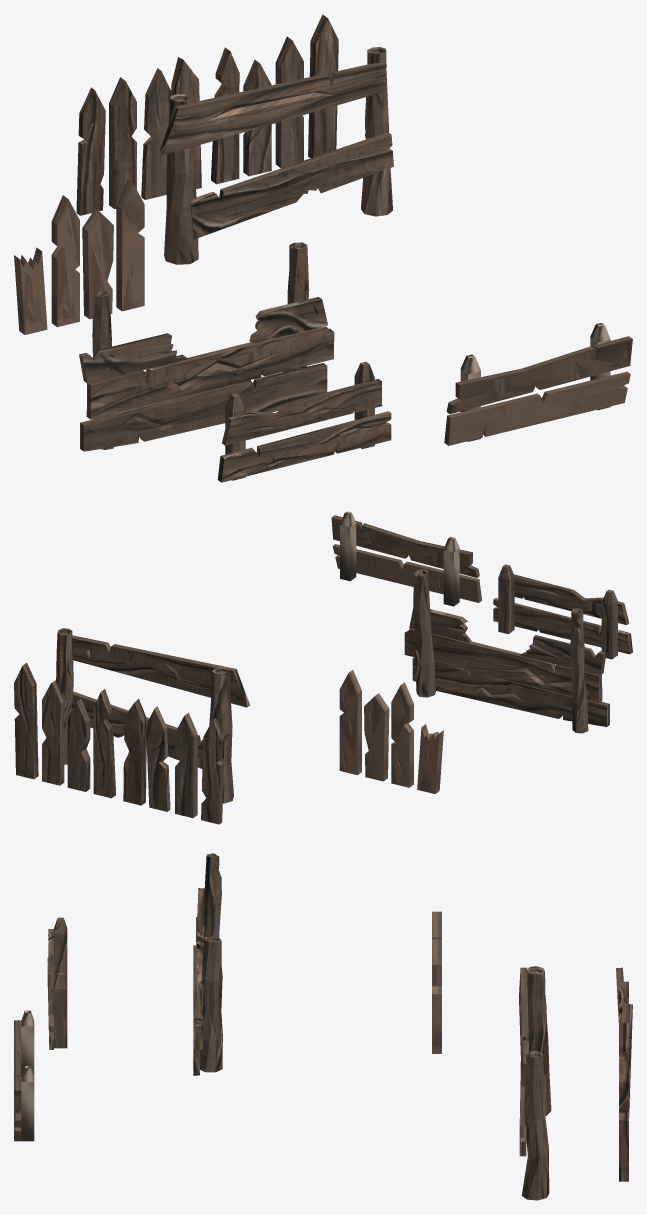
Rendered from FencesOnly.fbx.
The picture shows the model from 3 angles, top to bottom: view 1: azimuth 30°, elevation 25°; view 2: azimuth 150°, elevation 25°; view 3: azimuth 270°, elevation 25°; orthographic projection. The views are drawn at different scales.
Parts seen in each view (by area): view 1: Cube.047, Cylinder.000, Cube.129, Cube.316, Cube.119, Cube.012, Cube.014; view 2: Cube.047, Cylinder.000, Cube.014, Cube.012, Cube.316, Cube.129, Cube.119; view 3: Cylinder.000, Cube.047, Cube.129, Cube.119, Cube.014, Cube.316, Cube.012.
Part boxes in pixels (x1,y1,x2,y2): Cube.047: (79,242,334,451); Cylinder.000: (159,47,393,264); Cube.129: (444,323,632,445); Cube.316: (14,179,144,334); Cube.119: (217,361,391,482); Cube.012: (76,57,201,215); Cube.014: (211,14,338,184); Cube.047: (404,569,609,733); Cylinder.000: (56,628,249,803); Cube.014: (14,663,115,798); Cube.012: (123,698,224,824); Cube.316: (339,670,443,793); Cube.129: (331,511,481,606); Cube.119: (493,564,632,659); Cylinder.000: (519,966,551,1200); Cube.047: (193,853,222,1075); Cube.129: (14,1010,34,1141); Cube.119: (47,917,67,1049); Cube.014: (619,1022,628,1181); Cube.316: (432,911,441,1053); Cube.012: (616,967,632,1117).
Bounding box in the file's own units: 15.5 × 4.84 × 18.88.
